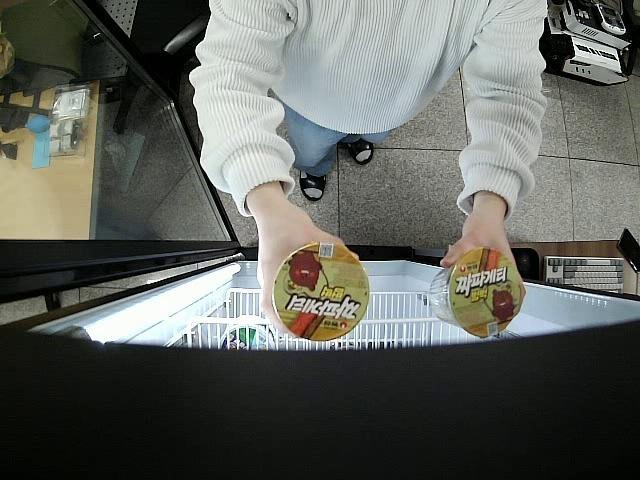04_chapagetti_S: (274, 244, 372, 340), (428, 250, 521, 339)
